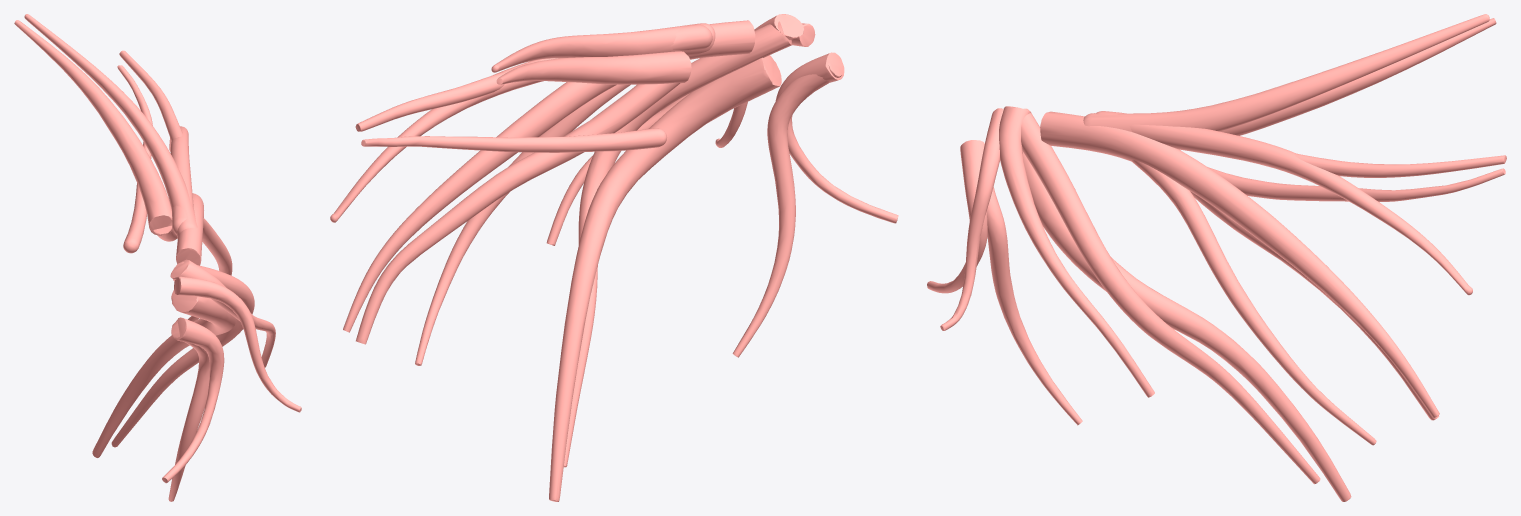
The model's file is left_lung.glb.
3 views of the same model, side by side, from view 1: azimuth 30°, elevation 25°; view 2: azimuth 150°, elevation 25°; view 3: azimuth 270°, elevation 25° (orthographic). The views are drawn at different scales.
Visible parts, largest first — view 1: grp1_10, grp1_2, grp1_5, grp1_1, grp1_8, grp1_11, grp1_7, grp1_13, grp1_6, grp1, grp1_3, grp1_12 (+1 smaller); view 2: grp1_5, grp1, grp1_9, grp1_1, grp1_7, grp1_10, grp1_13, grp1_2, grp1_3, grp1_4, grp1_8, grp1_12 (+2 smaller); view 3: grp1, grp1_1, grp1_5, grp1_2, grp1_3, grp1_4, grp1_6, grp1_7, grp1_13, grp1_10, grp1_11, grp1_12 (+2 smaller).
Part boxes in pixels (x1=…): grp1_10: x1=14, y1=20, x2=173, y2=235; grp1_2: x1=24, y1=14, x2=197, y2=238; grp1_5: x1=92, y1=290, x2=236, y2=457; grp1_1: x1=111, y1=262, x2=254, y2=447; grp1_8: x1=162, y1=317, x2=224, y2=483; grp1_11: x1=174, y1=276, x2=301, y2=412; grp1_7: x1=168, y1=321, x2=209, y2=501; grp1_13: x1=117, y1=65, x2=152, y2=253; grp1_6: x1=170, y1=259, x2=275, y2=367; grp1: x1=176, y1=193, x2=203, y2=265; grp1_3: x1=169, y1=126, x2=193, y2=234; grp1_12: x1=119, y1=50, x2=182, y2=140; grp1_5: x1=549, y1=55, x2=781, y2=501; grp1: x1=343, y1=20, x2=755, y2=332; grp1_9: x1=356, y1=82, x2=680, y2=344; grp1_1: x1=563, y1=21, x2=791, y2=467; grp1_7: x1=732, y1=63, x2=842, y2=357; grp1_10: x1=496, y1=51, x2=691, y2=84; grp1_13: x1=361, y1=128, x2=666, y2=152; grp1_2: x1=491, y1=23, x2=715, y2=72; grp1_3: x1=330, y1=24, x2=712, y2=222; grp1_4: x1=415, y1=84, x2=630, y2=365; grp1_8: x1=775, y1=52, x2=898, y2=223; grp1_12: x1=355, y1=72, x2=505, y2=131; grp1: x1=1040, y1=111, x2=1439, y2=417; grp1_1: x1=1021, y1=108, x2=1320, y2=484; grp1_5: x1=1023, y1=152, x2=1351, y2=501; grp1_2: x1=1083, y1=14, x2=1489, y2=131; grp1_3: x1=1096, y1=111, x2=1472, y2=295; grp1_4: x1=1131, y1=160, x2=1376, y2=445; grp1_6: x1=999, y1=106, x2=1154, y2=397; grp1_7: x1=987, y1=187, x2=1082, y2=425; grp1_13: x1=1208, y1=167, x2=1505, y2=202; grp1_10: x1=1220, y1=18, x2=1496, y2=135; grp1_11: x1=940, y1=108, x2=1003, y2=330; grp1_12: x1=1294, y1=153, x2=1506, y2=177.
Size of the model in its own units: 94.09 by 150 by 164.
